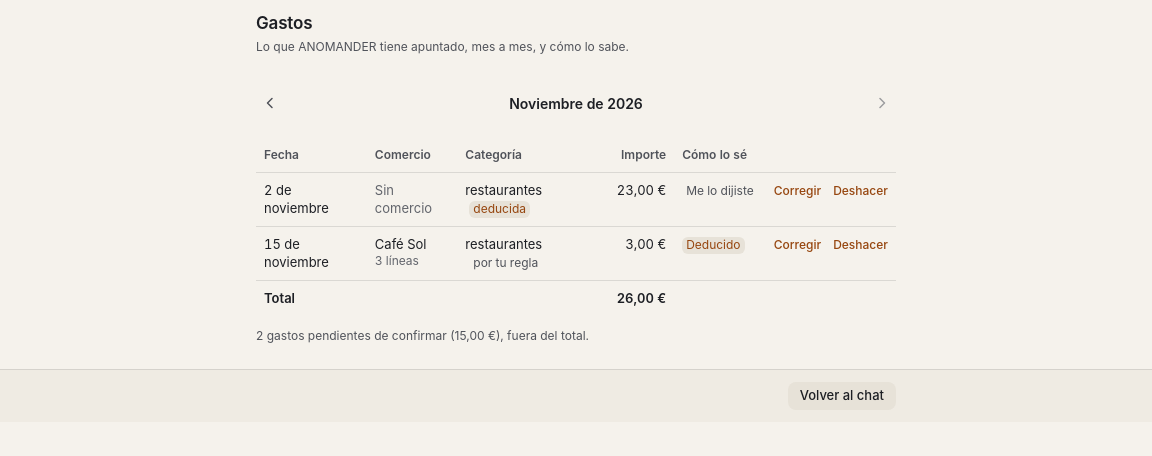
Test case: "Corregir" and "Deshacer" on a row (DK-17 AC6) › when the daemon fails (S-22) it says so and the row stays
Click the button "Deshacer" in the row of "2 de noviembre": (861, 191) [833,183,888,200]
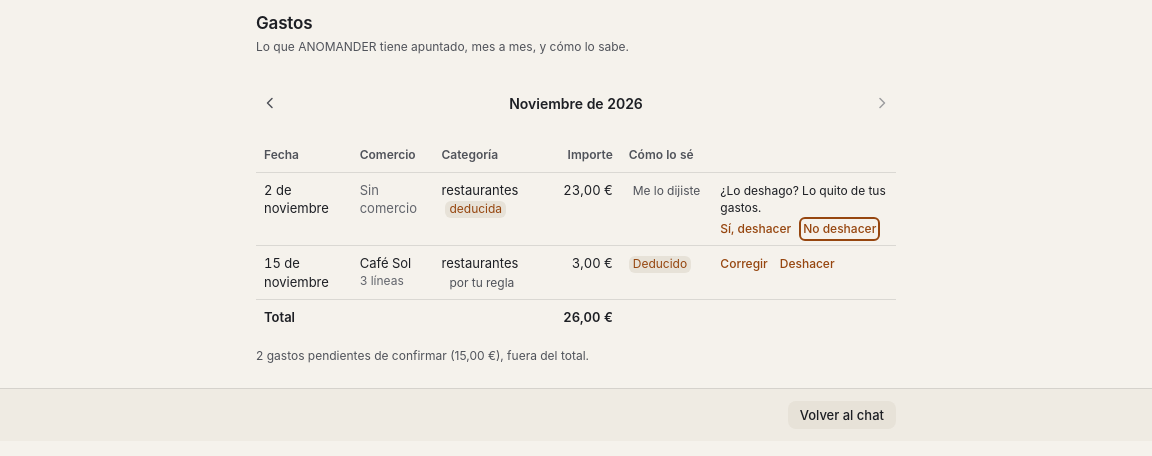
Click the button "Sí, deshacer": (756, 229) [720,221,791,237]
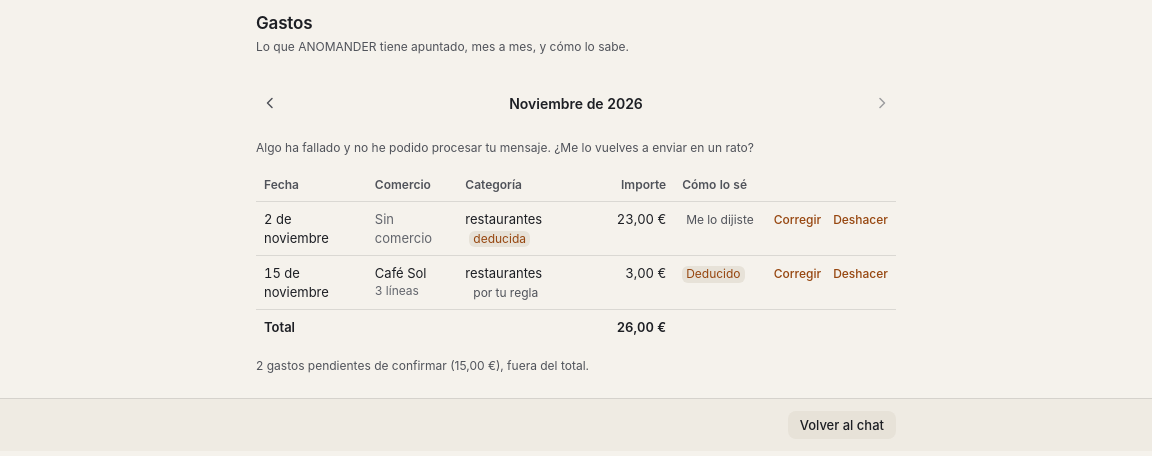
Expected: the number of rows is 4, [256,169,896,202]; [256,202,896,256]; [256,256,896,310]; [256,310,896,345]
Now the message shows "Algo ha fallado y no he podido procesar tu mensaje. ¿Me lo vuelves a enviar en un rato?", box [256,140,754,155]
